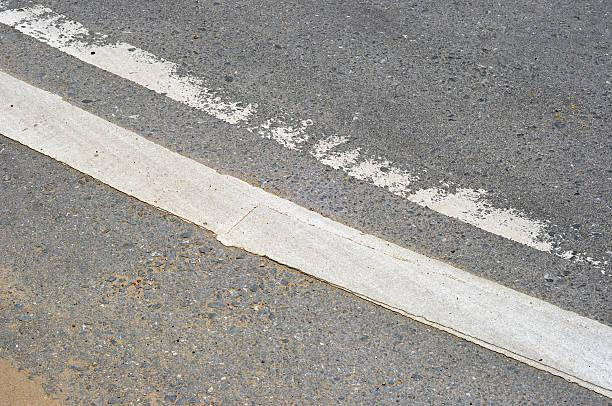faded_road_lines: (0, 0, 612, 278)
